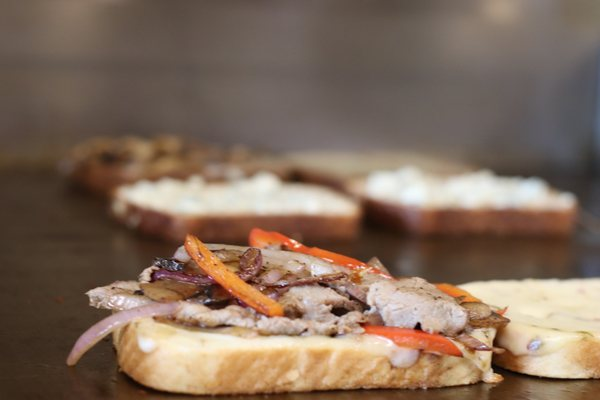soup: (72, 230, 504, 393)
